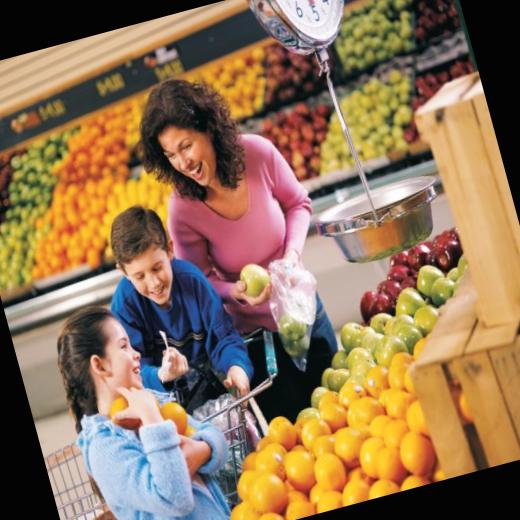Grape: (176, 326, 484, 520), (108, 395, 142, 432), (158, 400, 190, 436), (180, 418, 196, 439)
